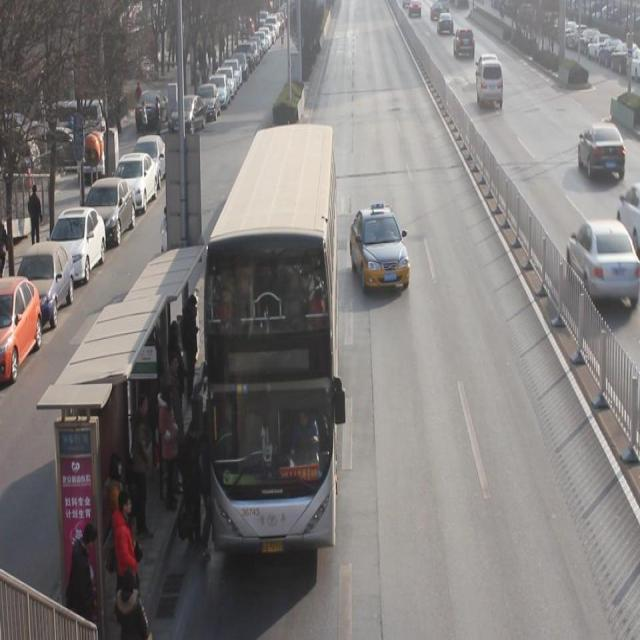car: (350, 210, 410, 301), (566, 223, 626, 310), (578, 125, 624, 183), (451, 31, 475, 63), (437, 15, 453, 38), (476, 56, 498, 68), (428, 8, 442, 23), (407, 7, 420, 21)
truck: (474, 63, 503, 111)
van: (206, 131, 338, 550)
